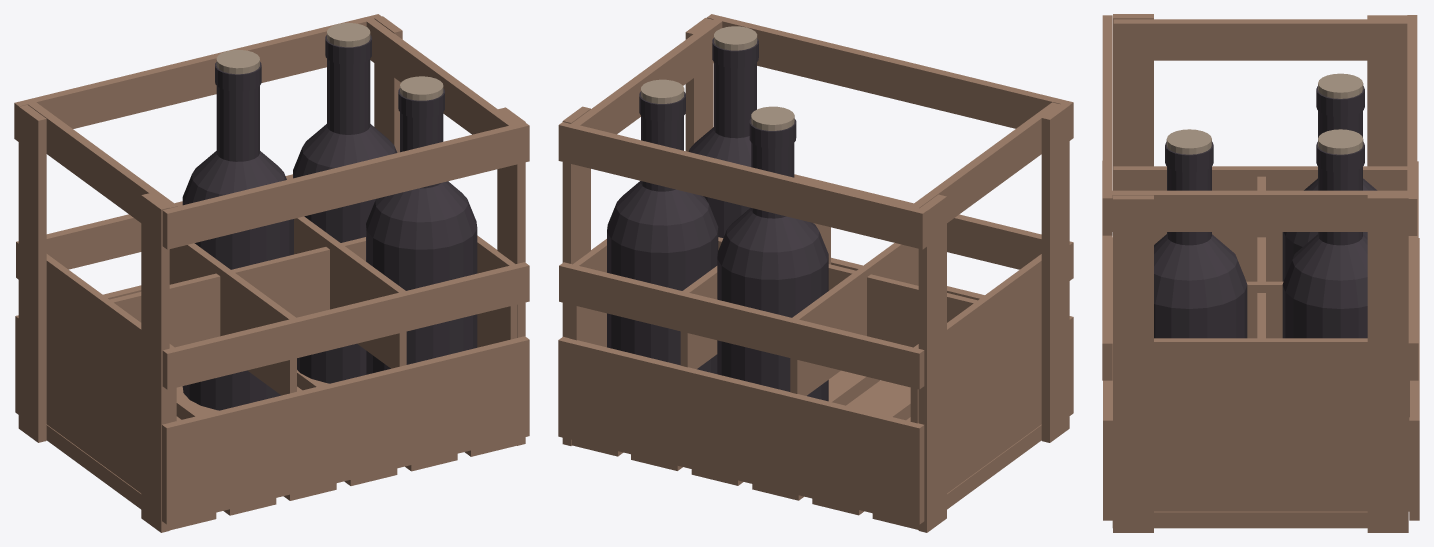
Rendered from wine_creat.fbx.
3 renders of one model, left to right at view 1: azimuth 30°, elevation 25°; view 2: azimuth 150°, elevation 25°; view 3: azimuth 270°, elevation 25°, orthographic. The views are drawn at different scales.
Visible parts, largest first — view 1: Cube.000, Cube.008, Cube.007, Cube.013, Cylinder.003, Cylinder.005, Cube.012, Cylinder, Cube.017, Cube.023, Cube.016, Cube.021 (+14 smaller); view 2: Cube.011, Cube.008, Cube.012, Cube.010, Cylinder.005, Cylinder, Cube.013, Cube.016, Cube.017, Cube.021, Cylinder.003, Cube.015 (+14 smaller); view 3: Cube.019, Cube.018, Cube.009, Cube.015, Cylinder.003, Cube.014, Cylinder, Cube.008, Cube.016, Cube.017, Cube.006, Cube.013 (+12 smaller).
Boxes of the visible parts, box(x1,y1,x2,y2) form: Cube.000: box(162, 336, 529, 524); Cube.008: box(46, 254, 176, 493); Cube.007: box(162, 262, 529, 389); Cube.013: box(162, 122, 529, 249); Cylinder.003: box(366, 112, 477, 374); Cylinder.005: box(182, 86, 293, 410); Cube.012: box(14, 14, 381, 141); Cylinder: box(293, 59, 397, 383); Cube.017: box(18, 105, 46, 442); Cube.023: box(109, 237, 365, 347); Cube.016: box(141, 193, 169, 532); Cube.021: box(169, 243, 296, 395); Cube.011: box(558, 336, 924, 524); Cube.008: box(910, 254, 1041, 493); Cube.012: box(558, 122, 927, 249); Cube.010: box(559, 262, 924, 389); Cylinder.005: box(717, 143, 828, 401); Cylinder: box(607, 116, 718, 373); Cube.013: box(706, 14, 1073, 140); Cube.016: box(1041, 103, 1069, 442); Cube.017: box(918, 194, 946, 532); Cube.021: box(790, 243, 918, 395); Cylinder.003: box(688, 62, 756, 237); Cube.015: box(910, 102, 1059, 222); Cube.019: box(1154, 338, 1409, 511); Cube.018: box(1367, 194, 1408, 532); Cube.009: box(1113, 195, 1153, 532); Cube.015: box(1113, 19, 1408, 60); Cylinder.003: box(1154, 166, 1247, 338); Cube.014: box(1112, 190, 1407, 231); Cylinder: box(1282, 166, 1367, 338); Cube.008: box(1113, 166, 1407, 190); Cube.016: box(1113, 14, 1153, 190); Cube.017: box(1367, 15, 1407, 166); Cube.006: box(1112, 511, 1367, 528); Cube.013: box(1102, 15, 1112, 235).
Bounding box in the file's own units: 67 × 61.1 × 48.75.
